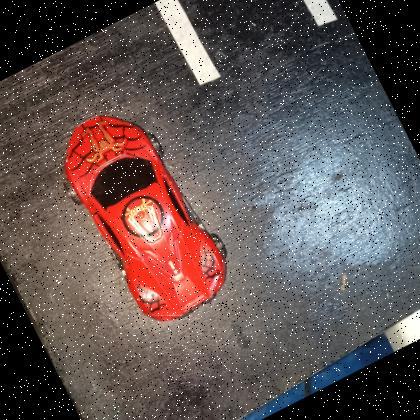Car: (42, 89, 246, 339)
